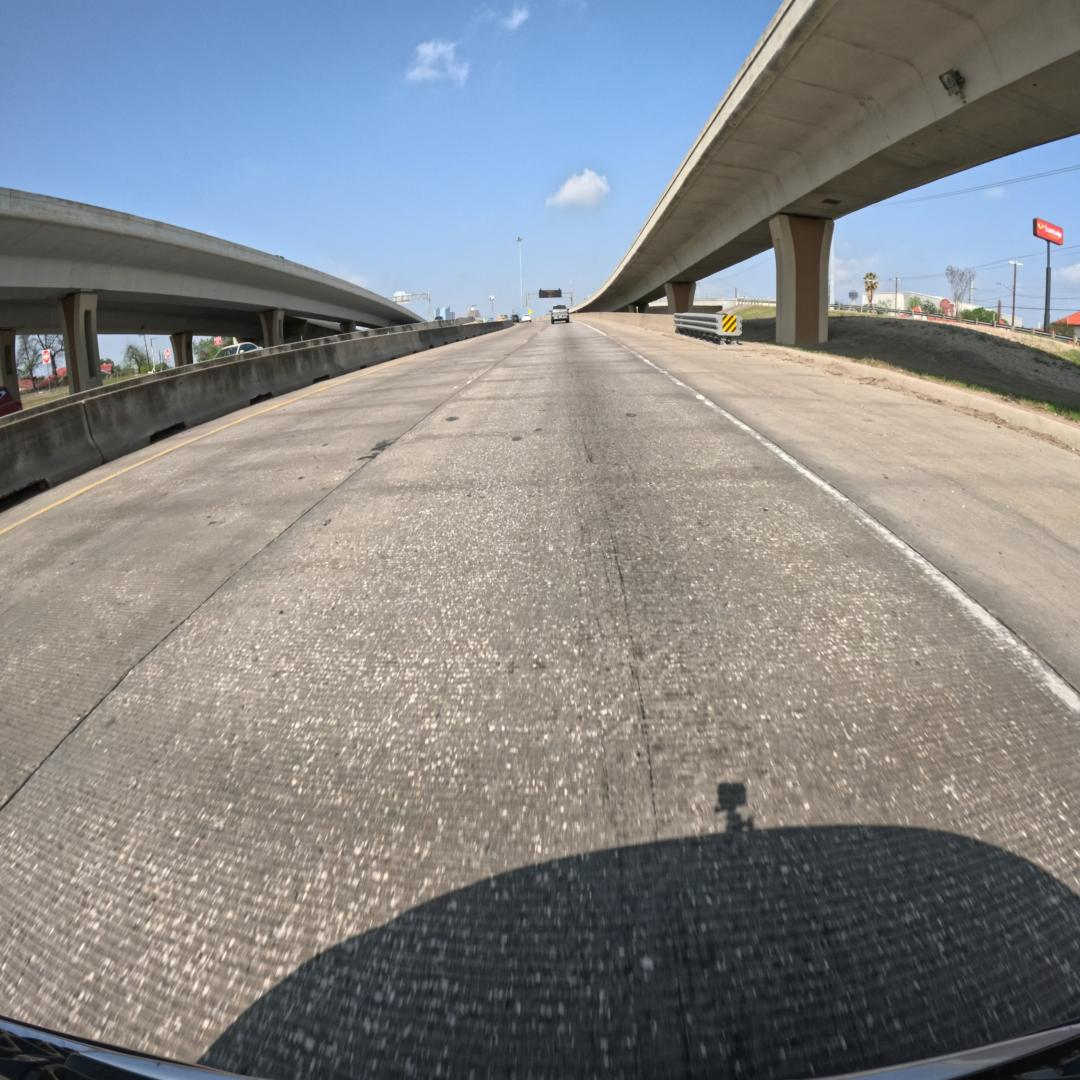lane0: (0, 324, 1080, 1080)
lane1: (0, 326, 538, 805)
